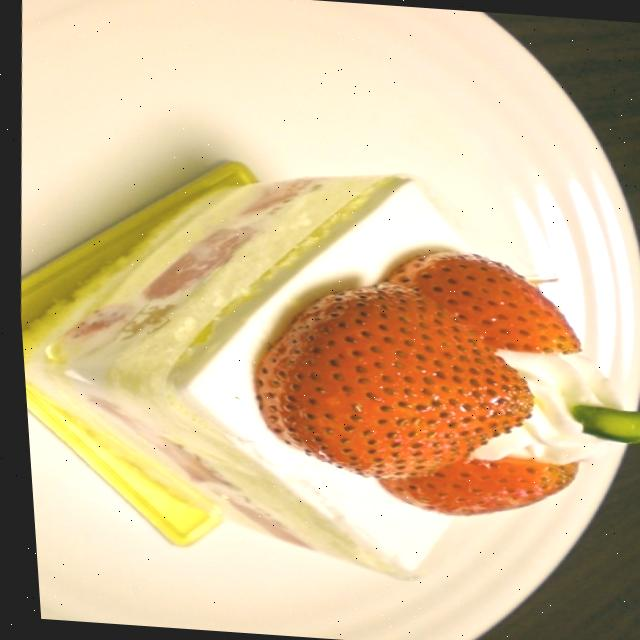蛋糕甜品: (2, 35, 640, 640)
